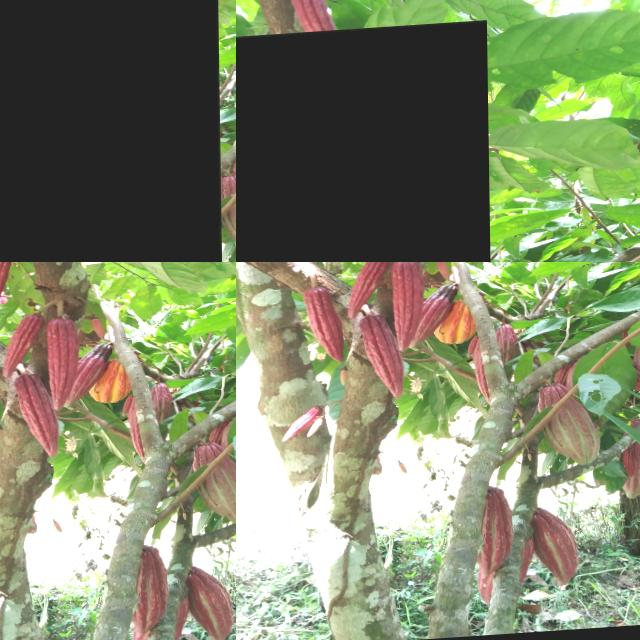Fitoftora: (0, 0, 221, 262), (409, 289, 457, 349)
Monilia: (236, 26, 492, 262)
Sana: (538, 389, 596, 472), (377, 266, 428, 350), (474, 489, 512, 584), (530, 515, 574, 596), (359, 316, 398, 404), (304, 290, 341, 368), (344, 262, 388, 322), (434, 308, 471, 350), (281, 409, 322, 445), (621, 428, 640, 503), (303, 423, 319, 441), (397, 466, 406, 479)
